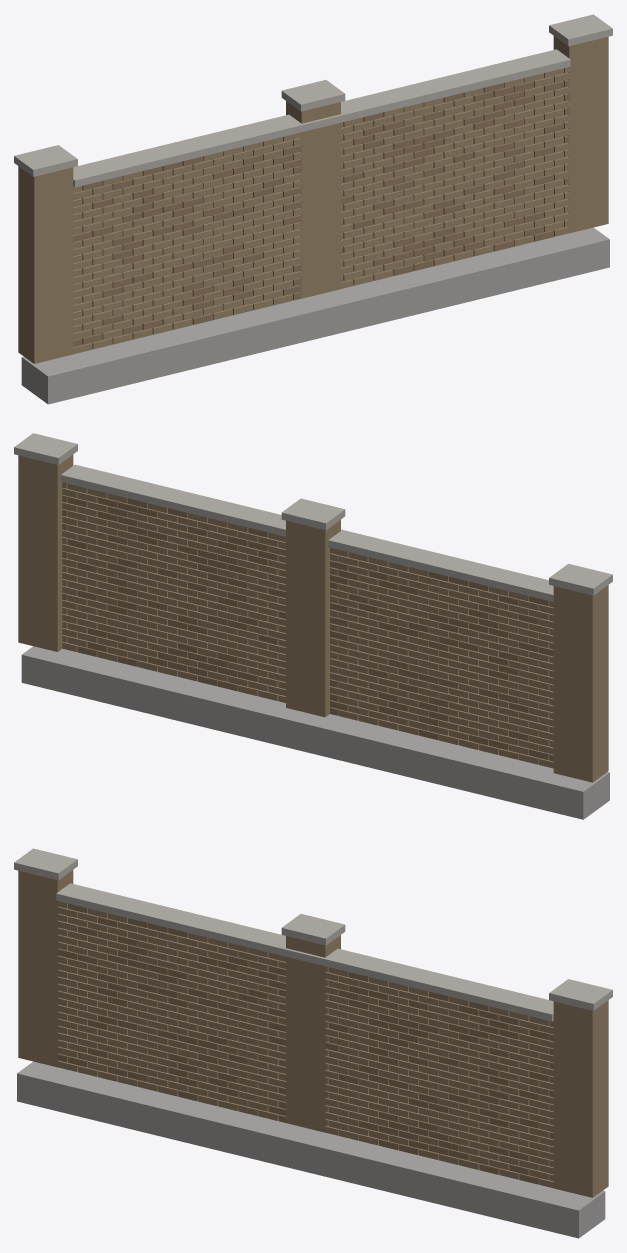
The model's file is wall.glb.
3 views of the same model, one above another, from view 1: azimuth 30°, elevation 25°; view 2: azimuth 150°, elevation 25°; view 3: azimuth 330°, elevation 25° (orthographic).
Parts seen in each view (by area): view 1: Found, Pier, Wall_coping, Pier.002, Pier.001, Pier_coping.001, Pier_coping, Pier_coping.002; view 2: Found, Pier, Wall_coping, Pier.002, Pier.001, Pier_coping.001, Pier_coping, Pier_coping.002; view 3: Found, Pier.002, Wall_coping, Pier, Pier.001, Pier_coping.001, Pier_coping, Pier_coping.002.
Part boxes in pixels (box(x1,y1,x2,y2)): Found: box(21, 227, 609, 404); Pier: box(18, 166, 73, 363); Wall_coping: box(73, 49, 570, 187); Pier.002: box(553, 36, 608, 233); Pier.001: box(286, 101, 340, 298); Pier_coping.001: box(281, 80, 345, 111); Pier_coping: box(14, 145, 77, 176); Pier_coping.002: box(549, 14, 612, 46); Found: box(21, 646, 609, 819); Pier: box(553, 585, 608, 782); Wall_coping: box(60, 464, 553, 601); Pier.002: box(18, 454, 73, 651); Pier.001: box(286, 520, 340, 717); Pier_coping.001: box(281, 498, 345, 530); Pier_coping: box(549, 563, 612, 595); Pier_coping.002: box(14, 433, 77, 464); Found: box(17, 1061, 605, 1238); Pier.002: box(553, 1000, 608, 1197); Wall_coping: box(56, 883, 553, 1021); Pier: box(18, 870, 73, 1067); Pier.001: box(286, 935, 340, 1132); Pier_coping.001: box(281, 914, 345, 945); Pier_coping: box(14, 848, 77, 880); Pier_coping.002: box(549, 979, 612, 1010).
Size of the model in its own units: 6.5 by 2.49 by 0.515.
